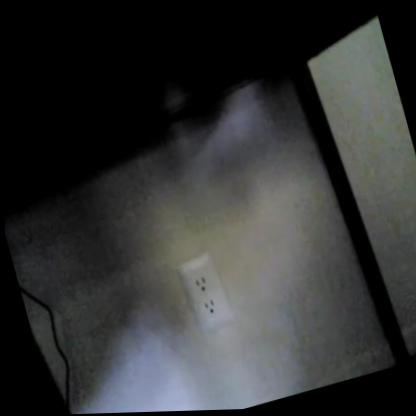OUTLET: (173, 247, 235, 335)
